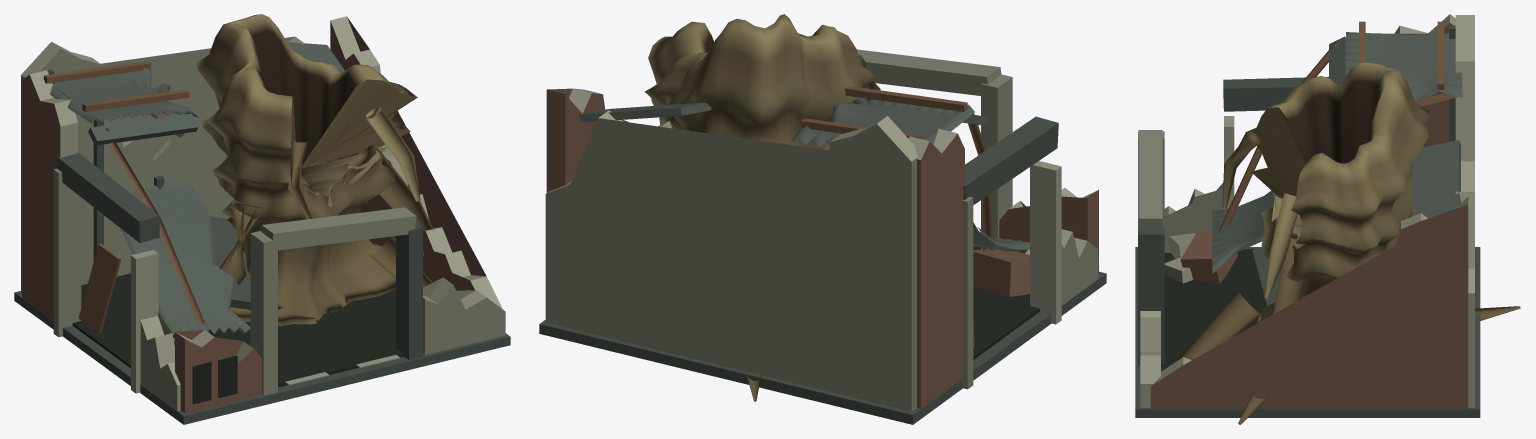
Rendered from infected_warehouse_damaged.glb.
3 renders of one model, left to right at view 1: azimuth 30°, elevation 25°; view 2: azimuth 150°, elevation 25°; view 3: azimuth 270°, elevation 25°, orthographic. The views are drawn at different scales.
Parts seen in each view (by area): view 1: WarehouseShell, Infection; view 2: WarehouseShell, Infection; view 3: WarehouseShell, Infection.
Boxes of the visible parts, x1,y1,x2,y2 form: WarehouseShell: [14, 16, 510, 424]; Infection: [195, 14, 433, 326]; WarehouseShell: [539, 49, 1106, 424]; Infection: [644, 14, 975, 401]; WarehouseShell: [1135, 14, 1480, 417]; Infection: [1176, 62, 1520, 424].
Bounding box in the file's own units: 7.03 × 5.09 × 6.38.
